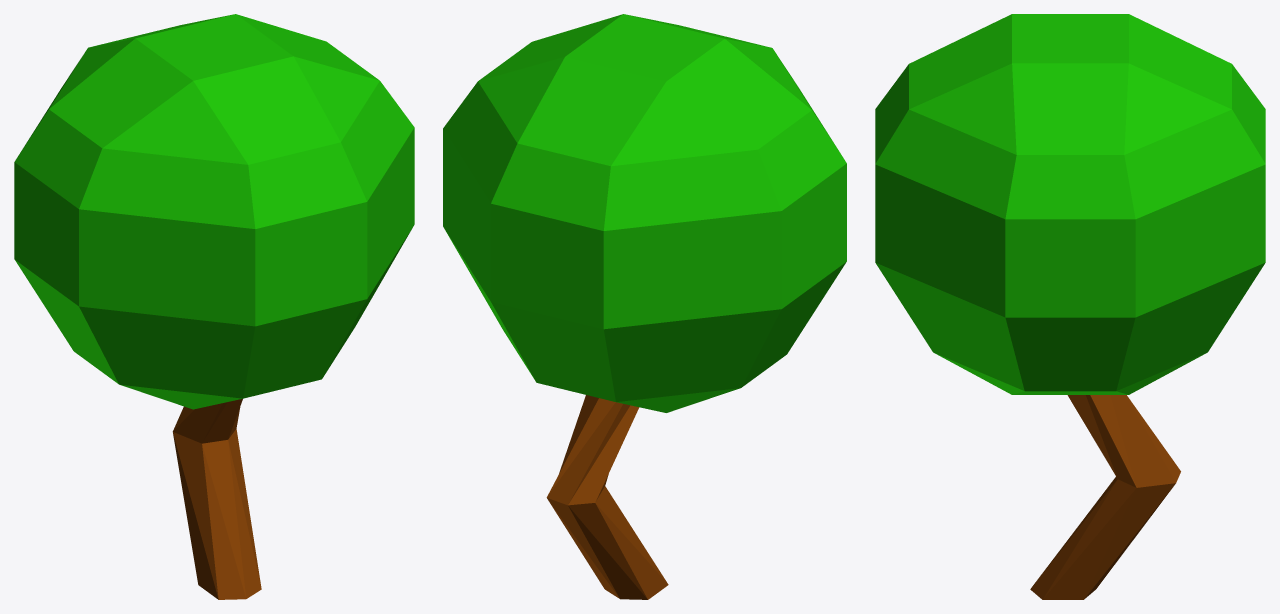
File: tree_02.FBX
3 views of the same model, side by side, from view 1: azimuth 30°, elevation 25°; view 2: azimuth 150°, elevation 25°; view 3: azimuth 270°, elevation 25° (orthographic).
Visible parts, largest first — view 1: leaves, trunk; view 2: leaves, trunk; view 3: leaves, trunk.
Part boxes in pixels (bbox=[...]): leaves: bbox=[14, 14, 414, 409]; trunk: bbox=[172, 399, 261, 599]; leaves: bbox=[443, 14, 846, 412]; trunk: bbox=[546, 395, 668, 599]; leaves: bbox=[875, 14, 1265, 394]; trunk: bbox=[1030, 395, 1180, 599].
Size of the model in its own units: 17.19 by 26.43 by 17.17.
